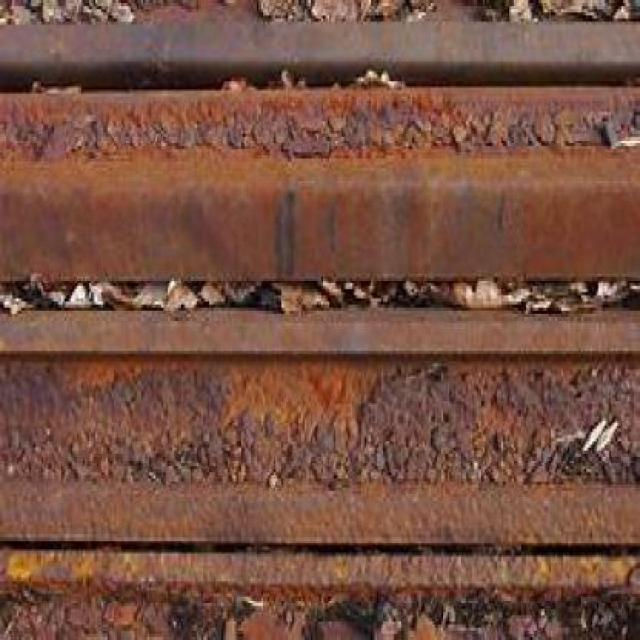defective: (10, 14, 634, 613)
